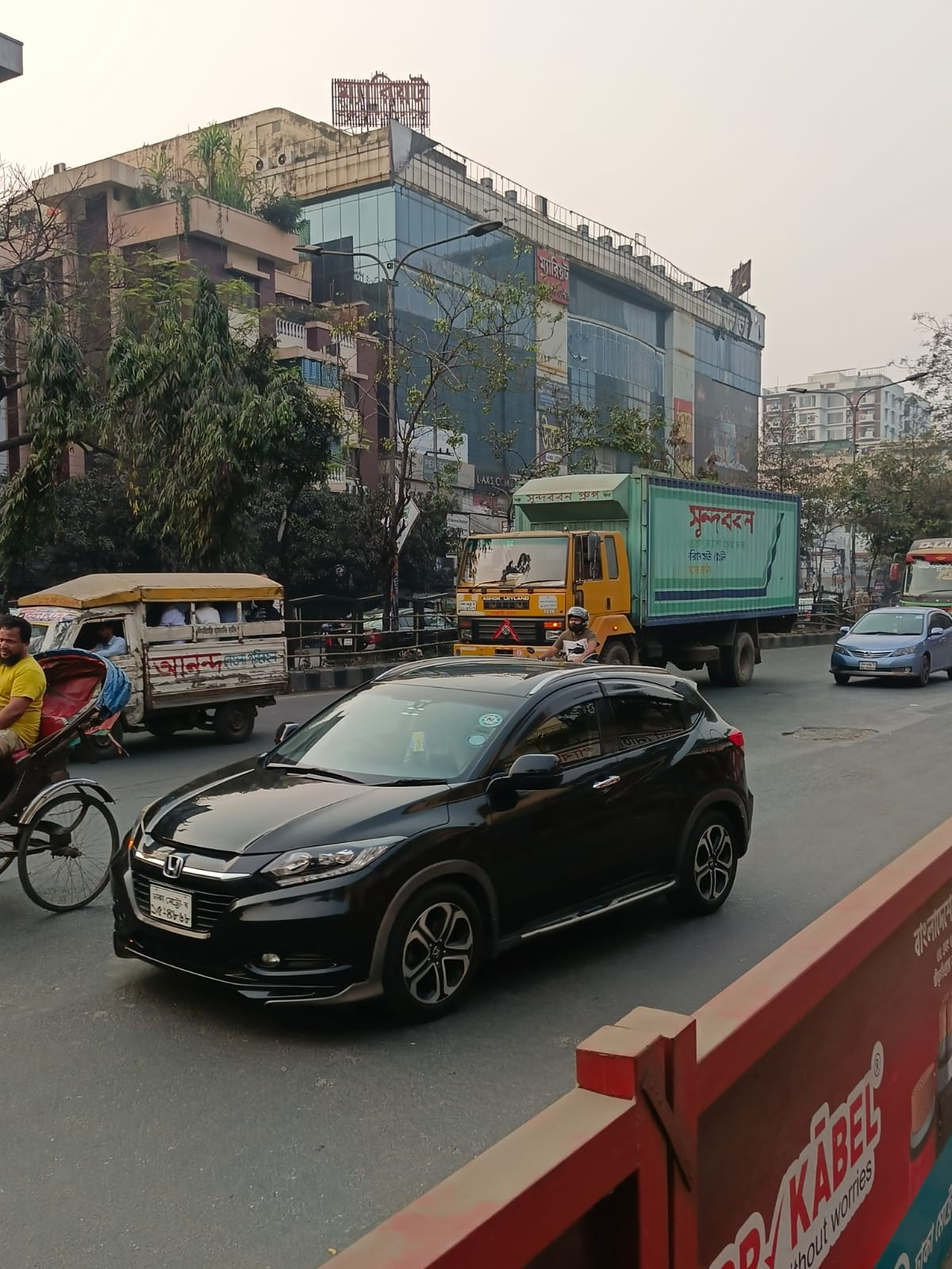Bus: (896, 511, 952, 617)
Leguna: (21, 545, 298, 733)
Truck: (465, 453, 825, 731)
auto-ricksaw: (19, 632, 129, 927)
private car: (122, 635, 766, 1060), (812, 598, 952, 684)
